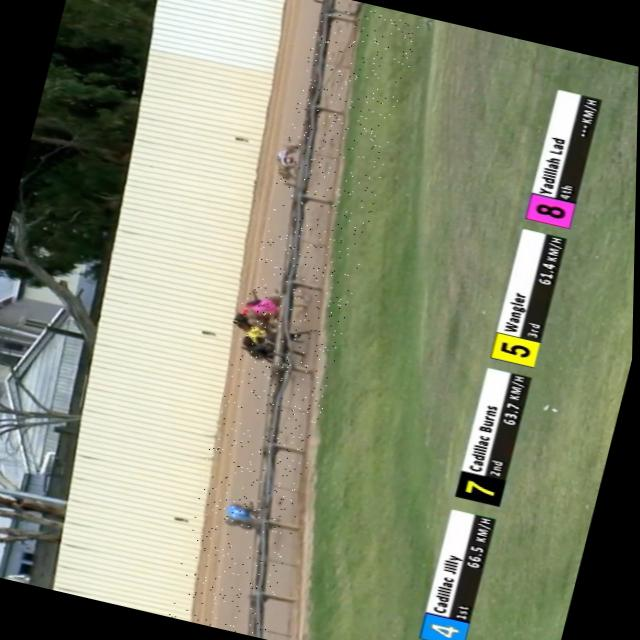dog_eight: (256, 296, 283, 314)
dog_five: (249, 324, 271, 342)
dog_four: (232, 502, 261, 521)
dog_one: (241, 300, 261, 316)
dog_seven: (266, 334, 284, 348)
dog_two: (277, 148, 299, 164)
rail: (249, 0, 337, 638)
